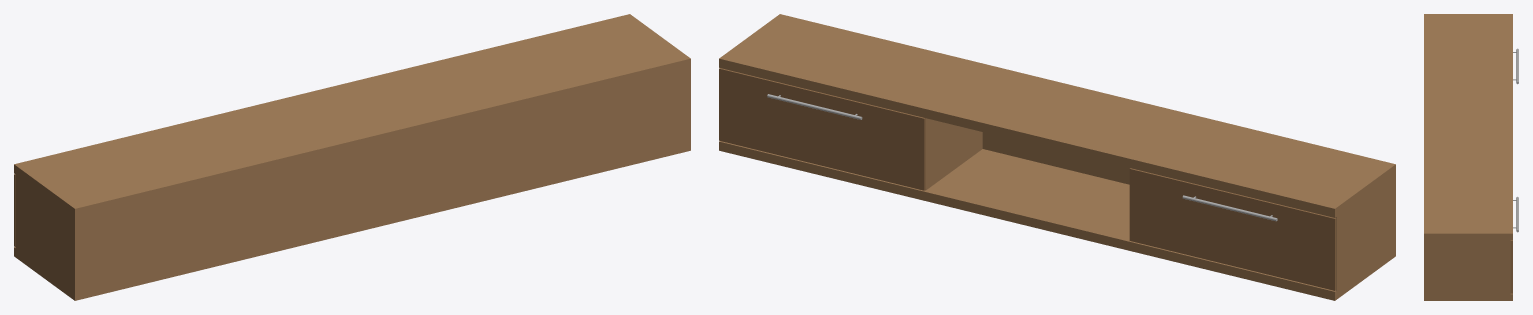
Rendered from tv_table_3.FBX.
3 views of the same model, side by side, from view 1: azimuth 30°, elevation 25°; view 2: azimuth 150°, elevation 25°; view 3: azimuth 270°, elevation 25° (orthographic). The views are drawn at different scales.
Parts seen in each view (by area): view 1: tv_table_3; view 2: tv_table_3; view 3: tv_table_3.
Boxes of the visible parts, left/top/right/bottom form: tv_table_3: left=14, top=14, right=690, bottom=300; tv_table_3: left=719, top=14, right=1395, bottom=300; tv_table_3: left=1424, top=14, right=1518, bottom=300.
Bounding box in the file's own units: 2.1 × 0.3001 × 0.3837.
